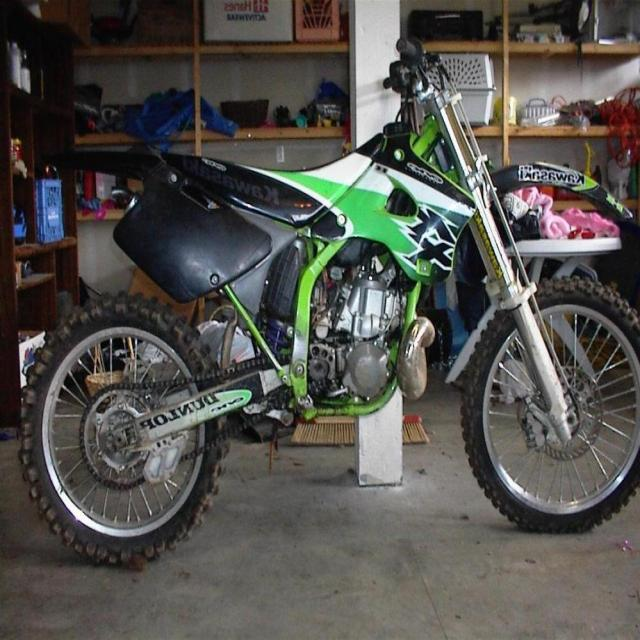motorcycle ahead at: (29, 33, 638, 625)
